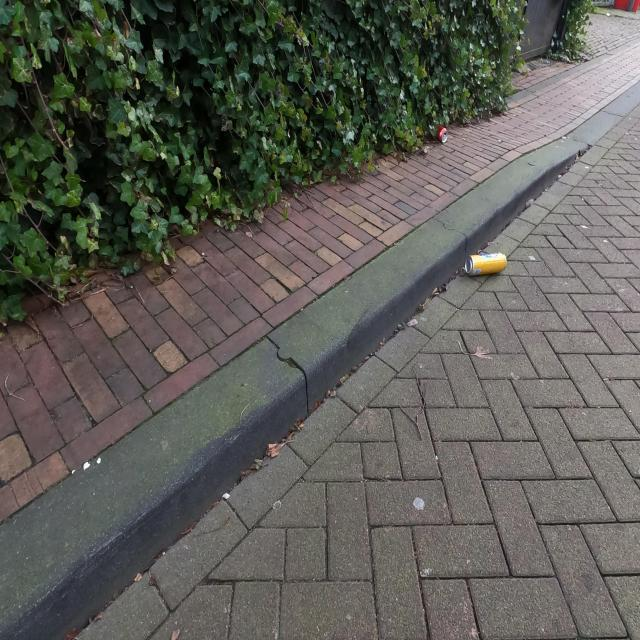Can-Metal: (467, 252, 509, 278), (434, 117, 449, 141)
